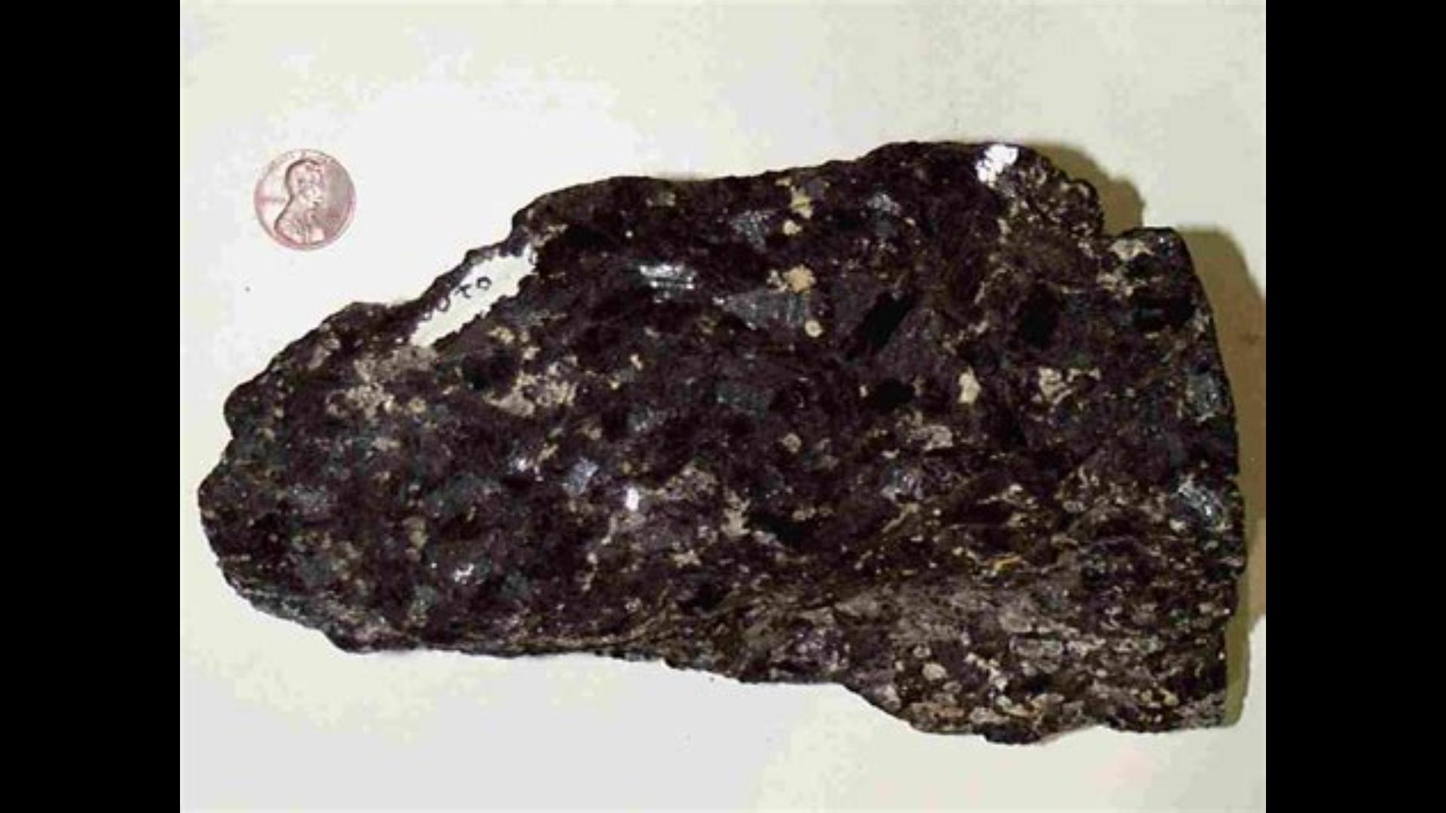rock: (201, 144, 1229, 737)
